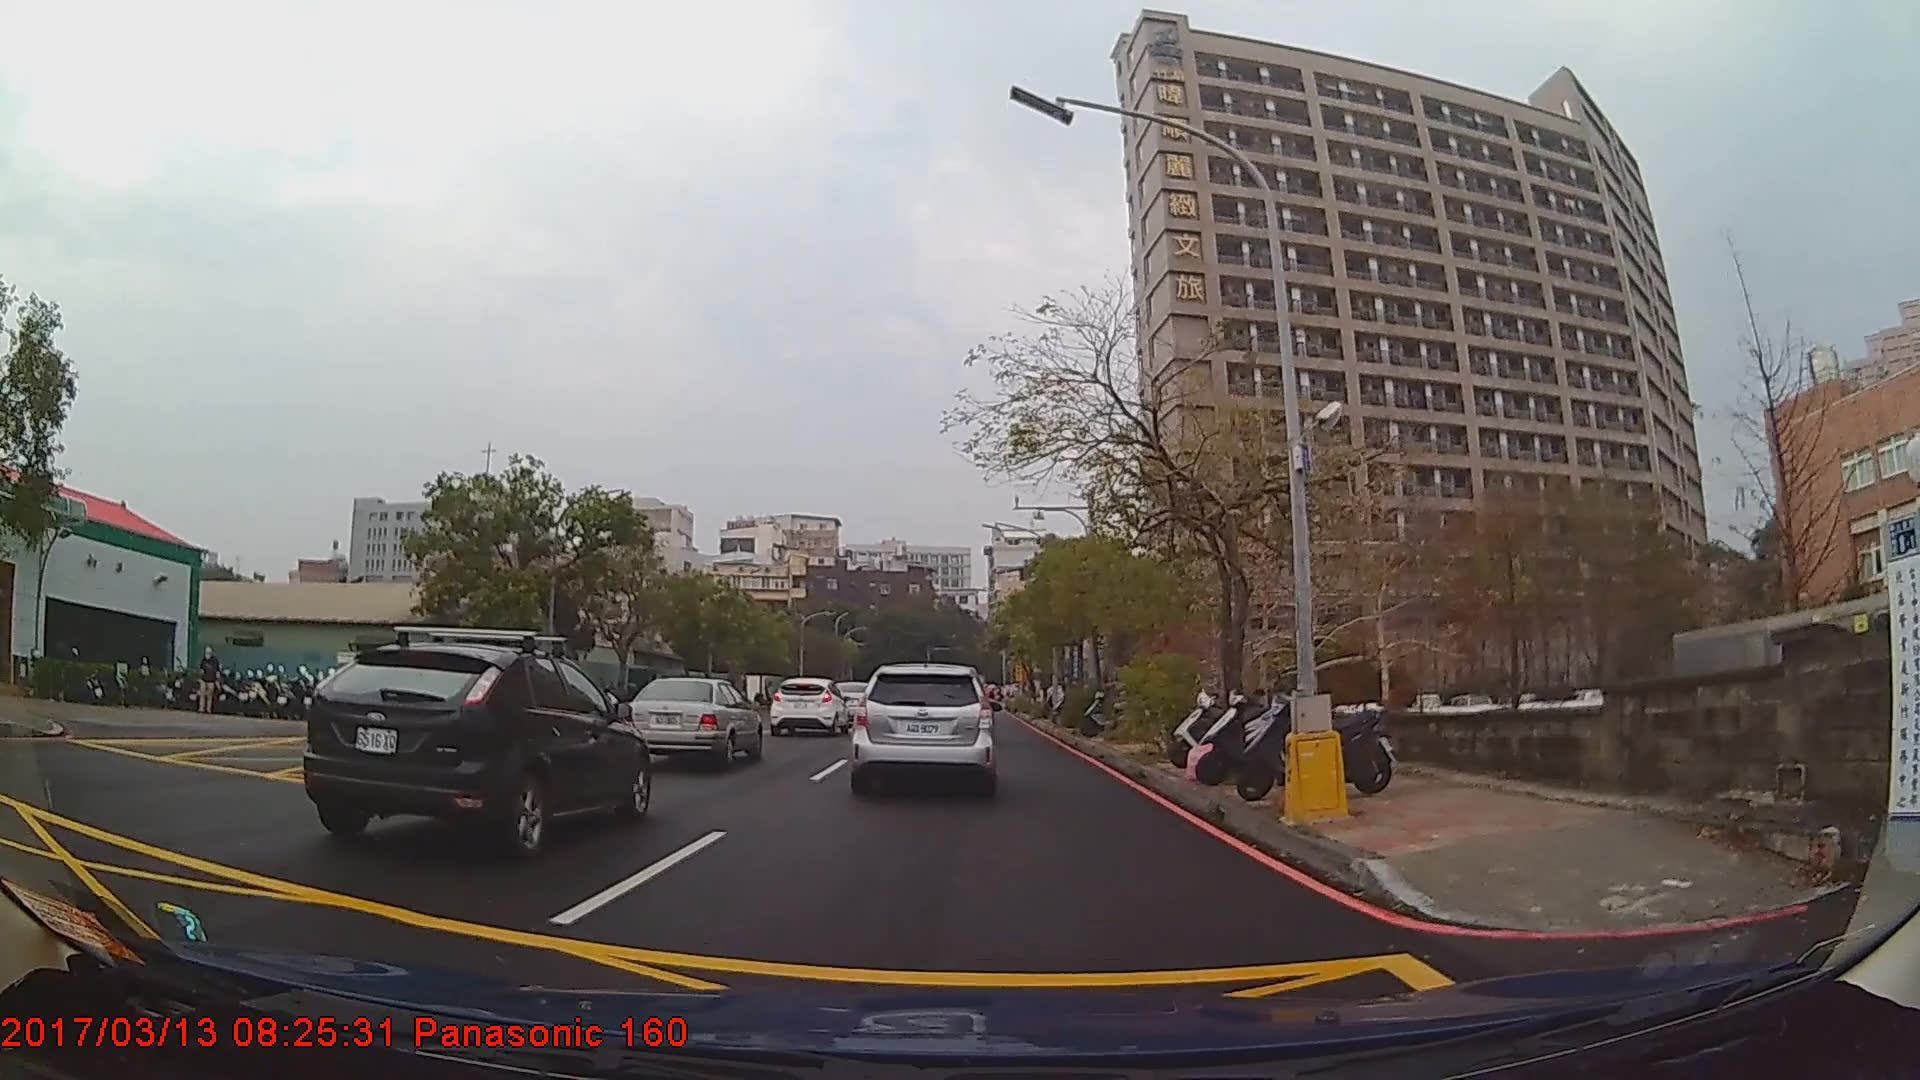pedestrian: (198, 648, 222, 716)
vehicle: (304, 638, 649, 851), (850, 662, 992, 796), (621, 675, 763, 771), (768, 676, 848, 737)
